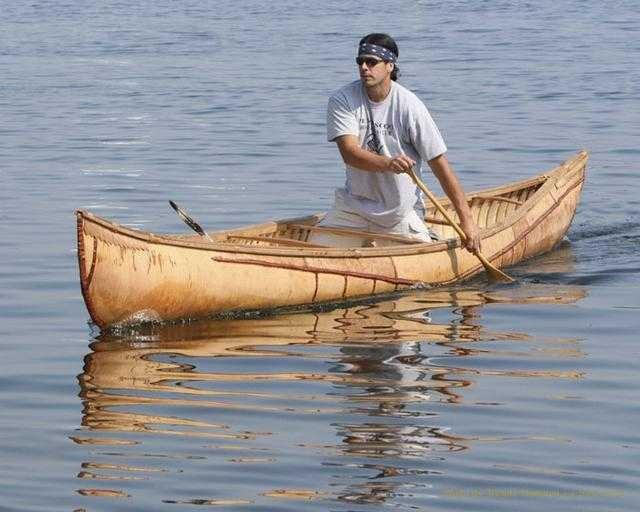kayak: (76, 147, 588, 330)
